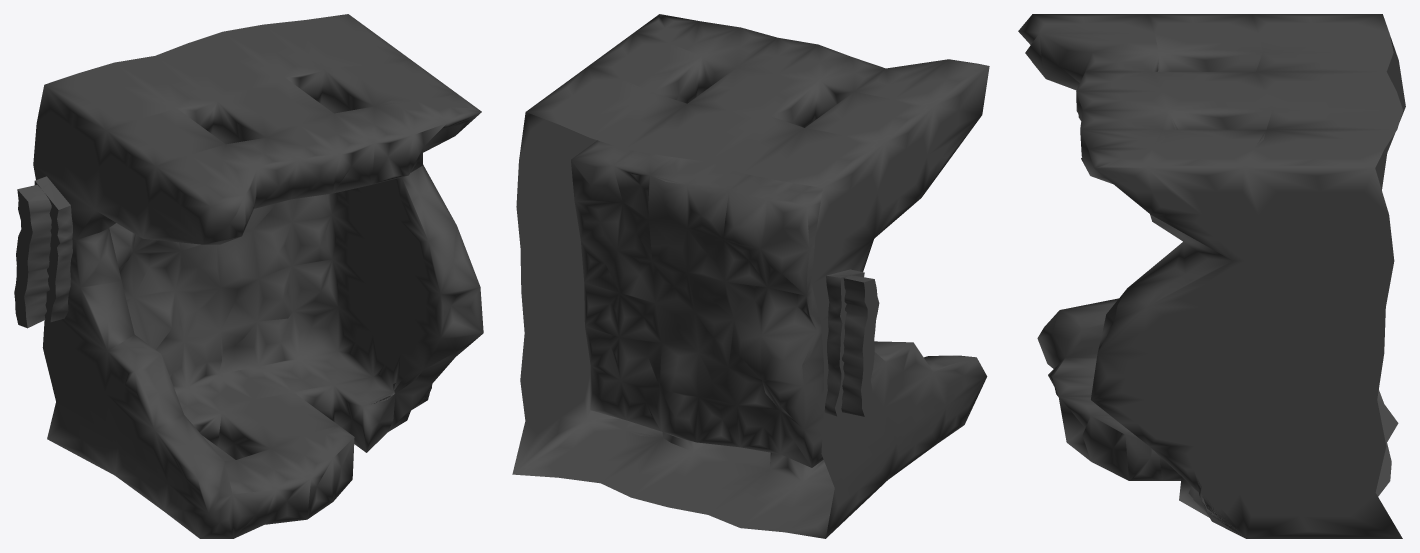
Rendered from building.fbx.
The picture shows the model from 3 angles, left to right: view 1: azimuth 30°, elevation 25°; view 2: azimuth 150°, elevation 25°; view 3: azimuth 270°, elevation 25°; orthographic projection. The views are drawn at different scales.
Parts seen in each view (by area): view 1: Plane01_None, Box01_None; view 2: Plane01_None, Box01_None; view 3: Plane01_None.
Boxes of the visible parts, bbox=[...] form: Plane01_None: bbox=[33, 14, 483, 538]; Box01_None: bbox=[14, 176, 72, 328]; Plane01_None: bbox=[512, 14, 989, 538]; Box01_None: bbox=[824, 269, 879, 416]; Plane01_None: bbox=[1018, 14, 1405, 538].
Size of the model in its own units: 323 by 325 by 309.
Materials: 1 (1 with a texture image).
